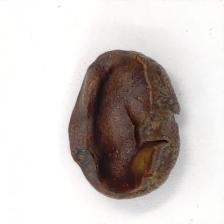NG: (68, 49, 147, 199), (138, 74, 181, 180)
